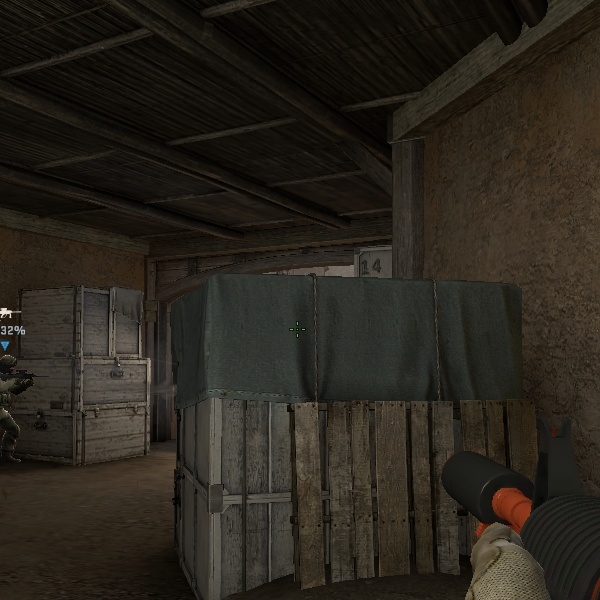ct_body: (1, 347, 38, 456)
ct_head: (1, 354, 16, 376)
